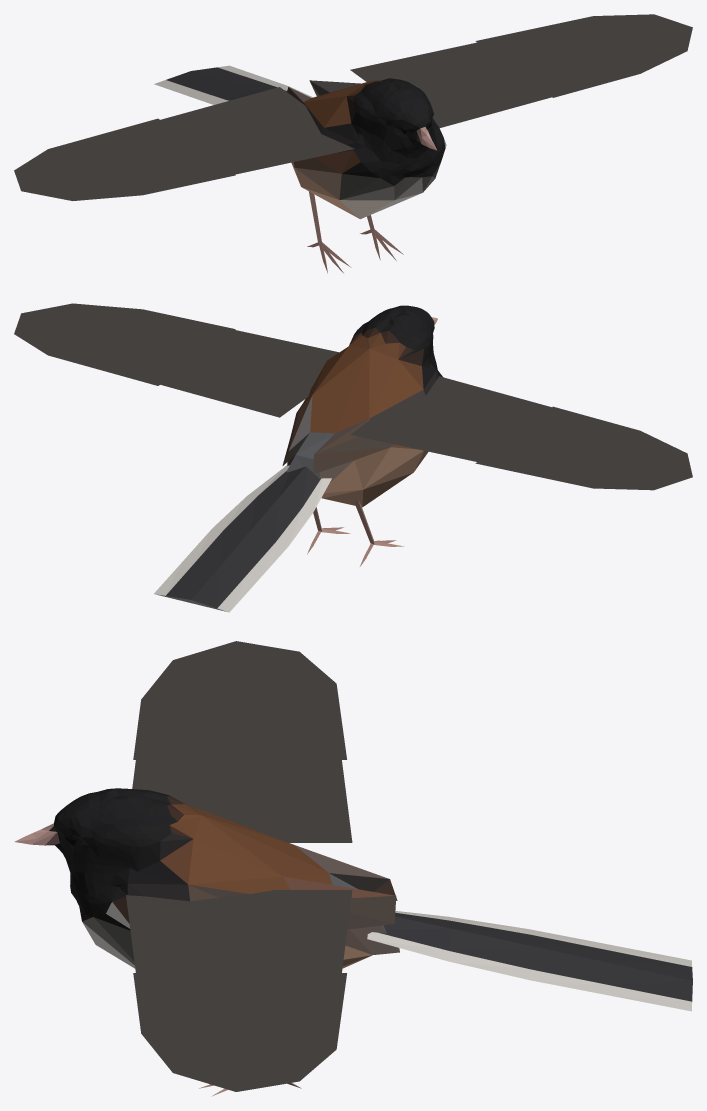
File: junco.glb
3 views of the same model, one above another, from view 1: azimuth 30°, elevation 25°; view 2: azimuth 150°, elevation 25°; view 3: azimuth 270°, elevation 25° (orthographic). The views are drawn at different scales.
Parts seen in each view (by area): view 1: lod0; view 2: lod0; view 3: lod0.
Boxes of the visible parts, x1,y1,x2,y2 form: lod0: [14, 14, 692, 273]; lod0: [14, 303, 692, 612]; lod0: [14, 641, 692, 1096].
Size of what is drawn, in the model's own units: 0.23 by 0.0662 by 0.1463.
